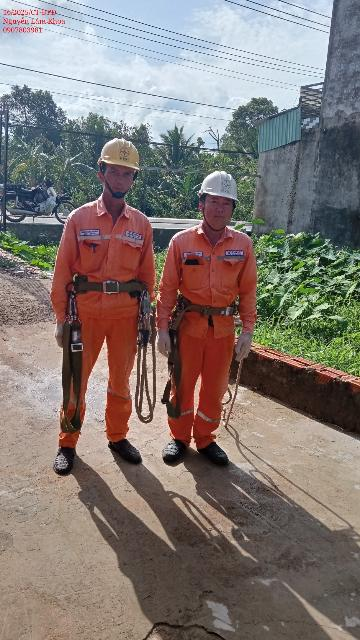gloves: (224, 329, 265, 369), (40, 319, 73, 352), (152, 324, 180, 361)
harness: (169, 286, 251, 324), (65, 269, 150, 305)
helmet: (183, 157, 248, 208), (92, 131, 148, 179)
shoes: (104, 439, 153, 475), (37, 446, 87, 480), (154, 431, 190, 466), (198, 441, 237, 468)
